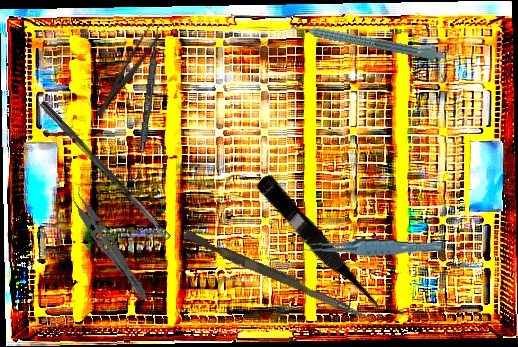Dressing Forceps: (90, 17, 168, 122)
Handpiece: (289, 15, 448, 63)
Micro Scissor: (250, 171, 392, 324)
Pusher: (181, 229, 376, 323)
Spatula Surgical: (135, 26, 161, 181)
Surgical Spoon: (38, 100, 172, 242)
Tissue Forceps: (61, 182, 159, 304), (302, 232, 442, 262)
